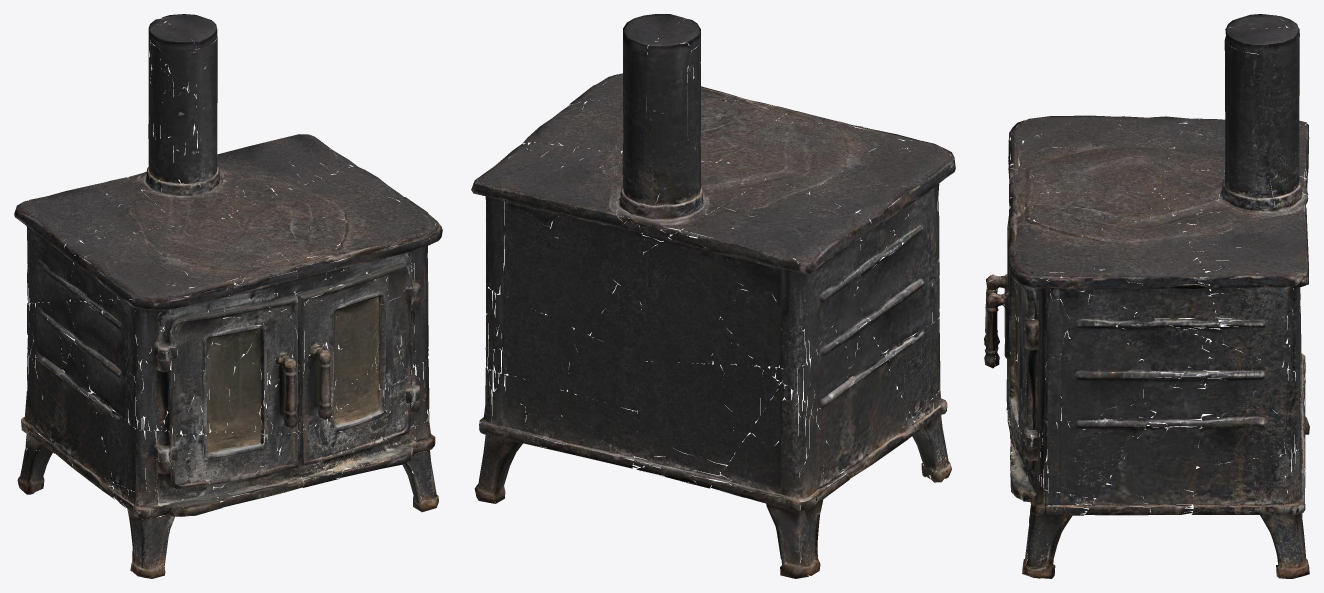
Rendered from woodstove_prop.glb.
3 renders of one model, left to right at view 1: azimuth 30°, elevation 25°; view 2: azimuth 150°, elevation 25°; view 3: azimuth 270°, elevation 25°, orthographic. The views are drawn at different scales.
Parts seen in each view (by area): view 1: prop_woodstove; view 2: prop_woodstove; view 3: prop_woodstove.
Boxes of the visible parts, box(x1,y1,x2,y2) form: prop_woodstove: box(14, 14, 442, 578); prop_woodstove: box(471, 14, 955, 578); prop_woodstove: box(984, 14, 1309, 578).
Bounding box in the file's own units: 0.7294 × 0.9814 × 0.6136.
1 material, 1 textured.
